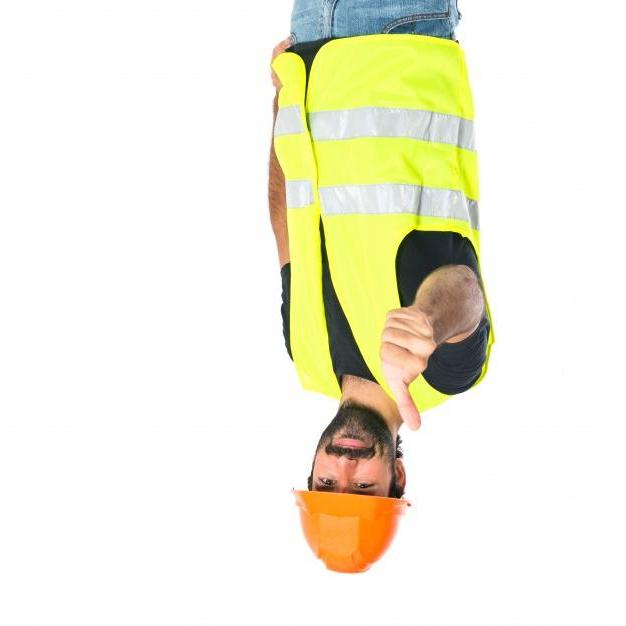thumbsdown: (379, 306, 436, 432)
